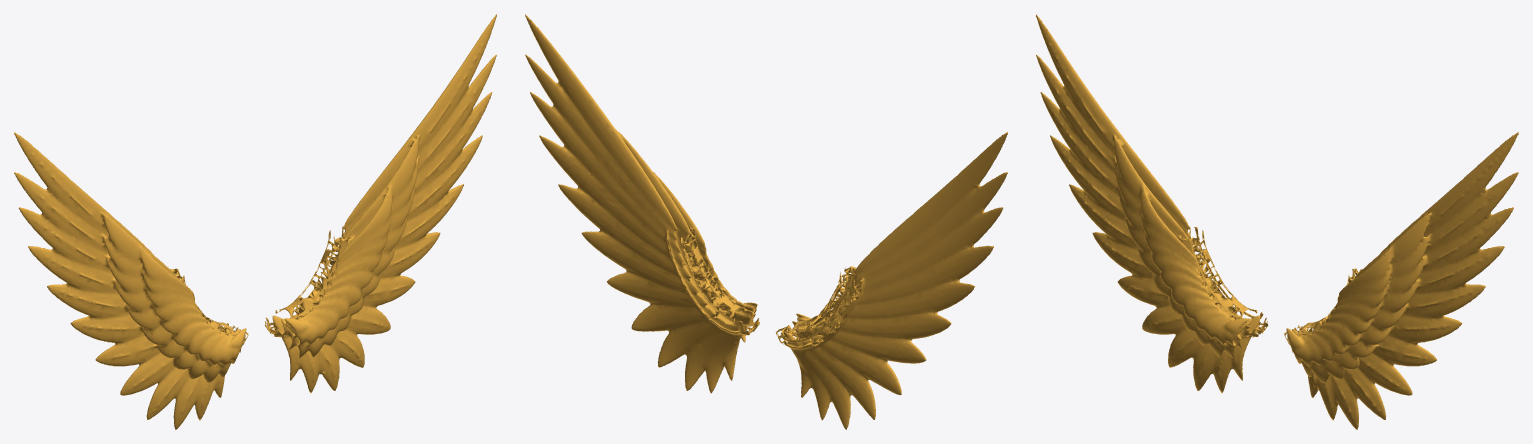
Rendered from product_golden_wings.glb.
The picture shows the model from 3 angles, left to right: view 1: azimuth 30°, elevation 25°; view 2: azimuth 150°, elevation 25°; view 3: azimuth 330°, elevation 25°; orthographic projection.
Parts seen in each view (by area): view 1: Golden_Wing.L, Golden_Wing.R; view 2: Golden_Wing.R, Golden_Wing.L; view 3: Golden_Wing.R, Golden_Wing.L.
Part boxes in pixels (x1,y1,x2,y2): Golden_Wing.L: (14, 132, 248, 429); Golden_Wing.R: (264, 14, 496, 393); Golden_Wing.R: (525, 14, 759, 393); Golden_Wing.L: (775, 132, 1007, 429); Golden_Wing.R: (1284, 132, 1518, 429); Golden_Wing.L: (1036, 14, 1268, 393).
Bounding box in the file's own units: 5.55 × 3.71 × 0.4271.
